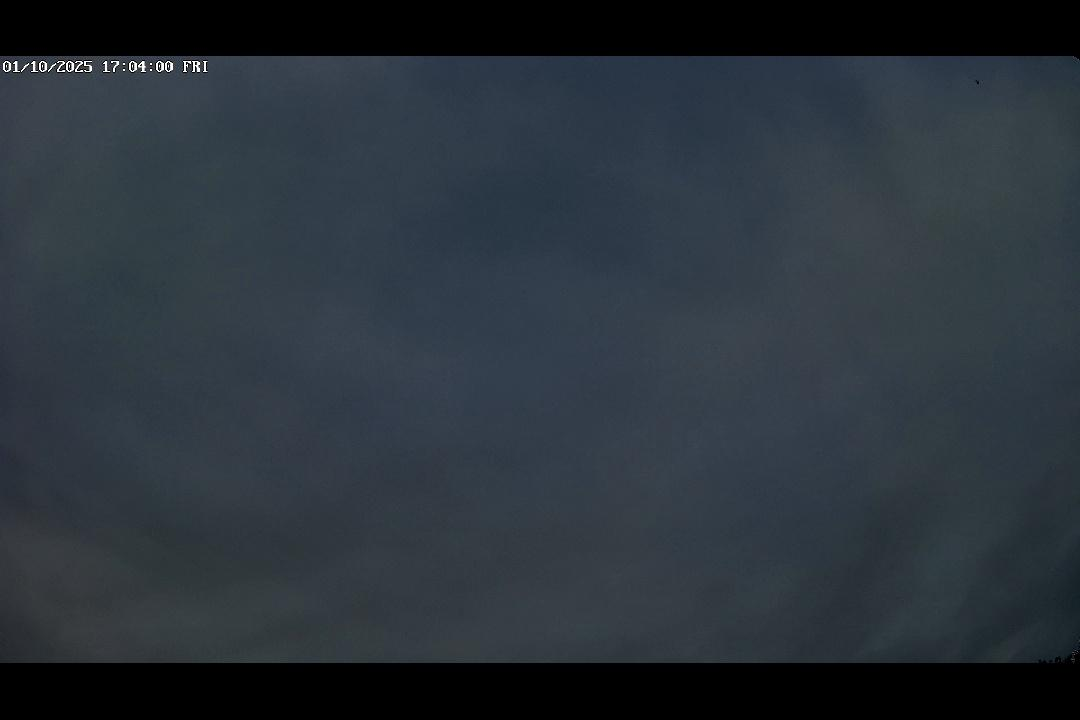Plane: (969, 75, 986, 87)
